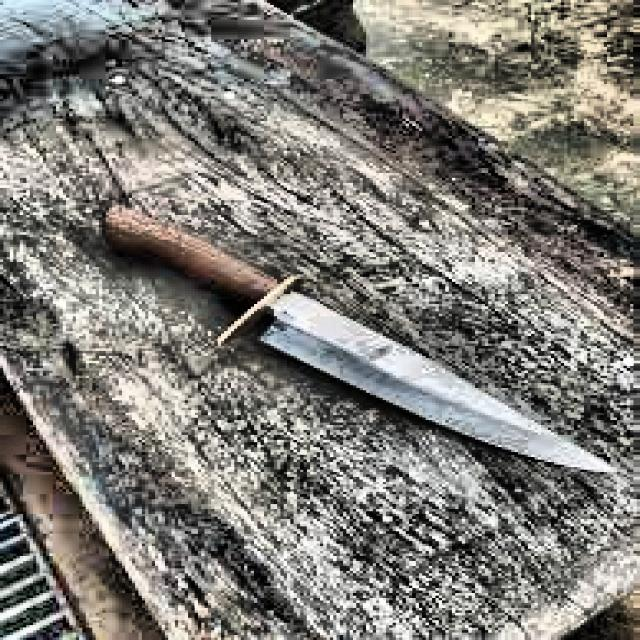knife: (103, 207, 622, 476)
